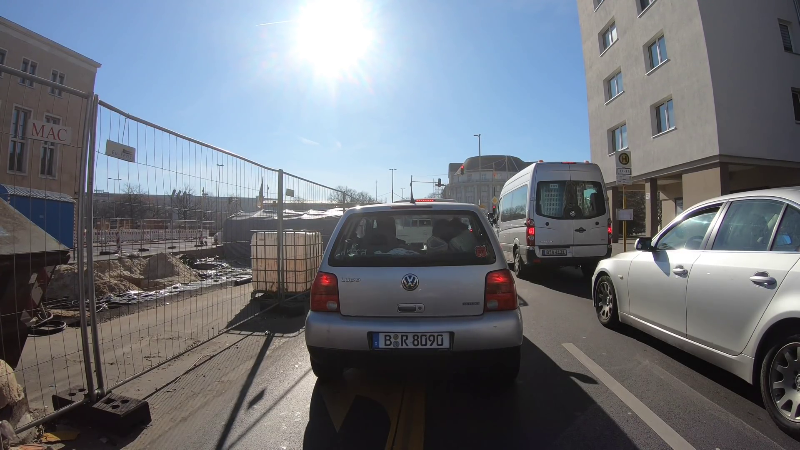Plate: (367, 330, 453, 350), (542, 246, 569, 255)
